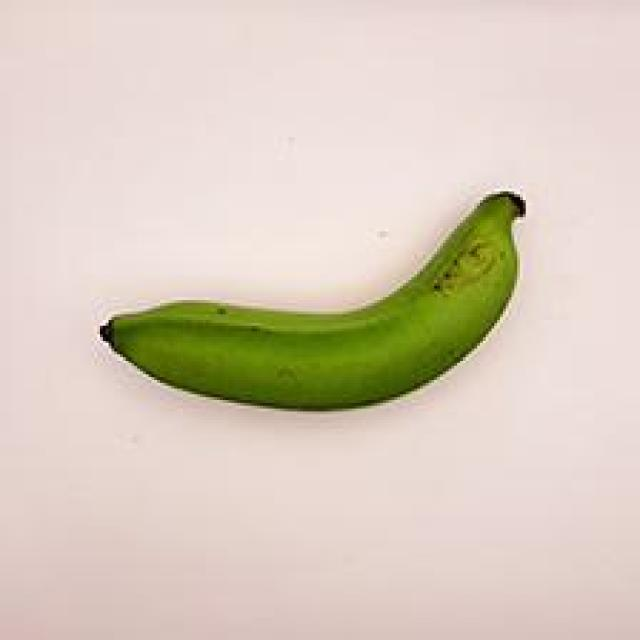Raw: (78, 159, 542, 461)
